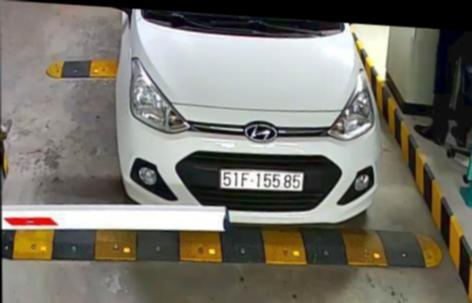License_Plate: (220, 167, 305, 195)
